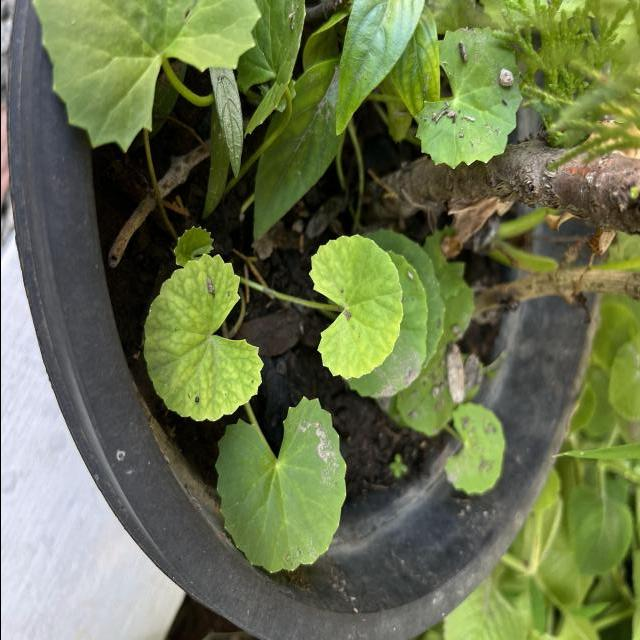Centella asiatica: (208, 390, 348, 580), (140, 250, 268, 426), (410, 24, 528, 174), (304, 231, 406, 383)
